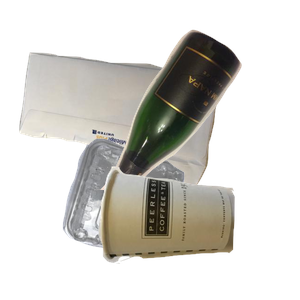glass: (87, 27, 300, 207)
paper: (17, 50, 231, 230)
plastic: (60, 136, 237, 300)
trash: (95, 164, 300, 300)
